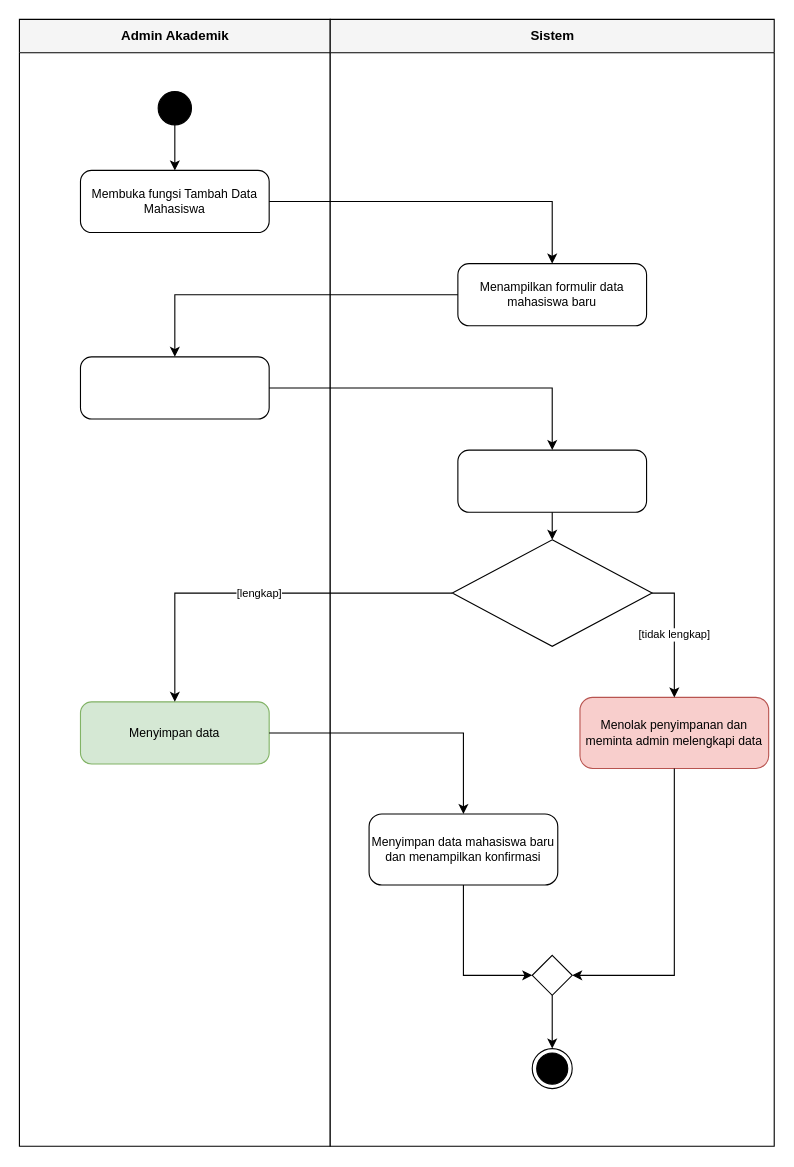
This 794x1167 diagram has some shape labels left out. The centre of each missing label's shape, as x and y in pixels:
"Data lengkap?" goes at pixel 551 592.
"Memeriksa kelengkapan data mahasiswa baru" goes at pixel 552 480.
"Mengisi data mahasiswa baru" goes at pixel 174 387.
